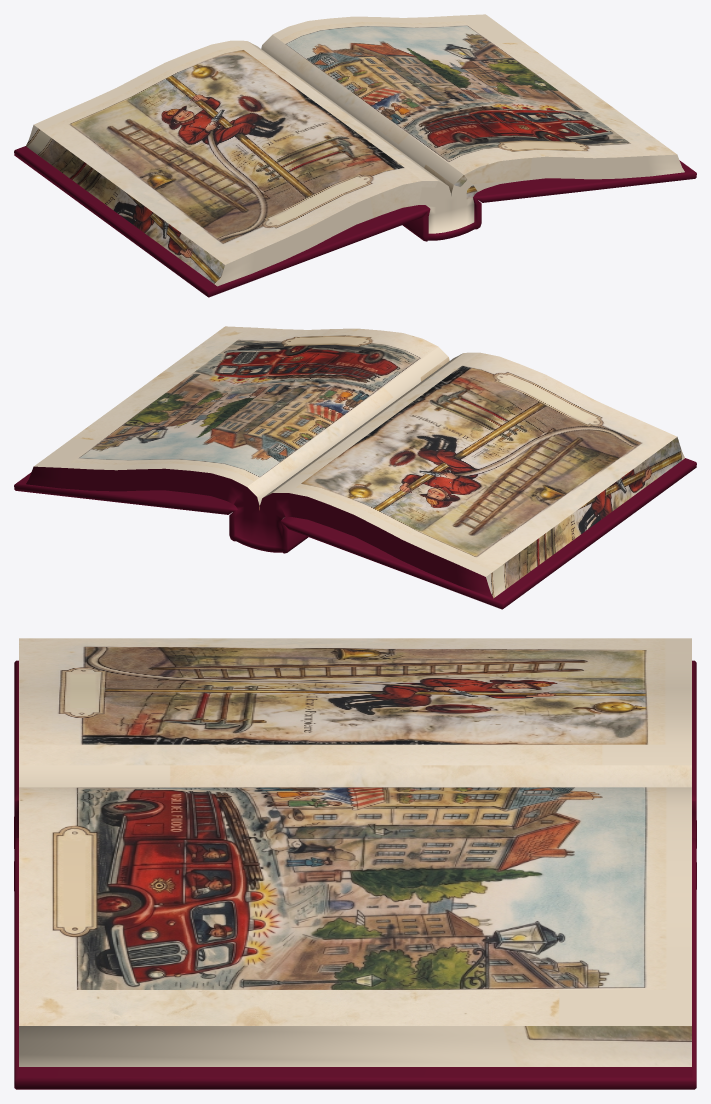
File: libro-future.glb
The picture shows the model from 3 angles, top to bottom: view 1: azimuth 30°, elevation 25°; view 2: azimuth 150°, elevation 25°; view 3: azimuth 270°, elevation 25°; orthographic projection. The views are drawn at different scales.
Parts seen in each view (by area): view 1: libro-future; view 2: libro-future; view 3: libro-future.
Boxes of the visible parts, bbox=[...] form: libro-future: bbox=[14, 14, 696, 297]; libro-future: bbox=[14, 326, 696, 609]; libro-future: bbox=[14, 638, 696, 1089].
Size of the model in its own units: 1.25 by 0.1611 by 0.8617.
2 materials, 1 textured.
